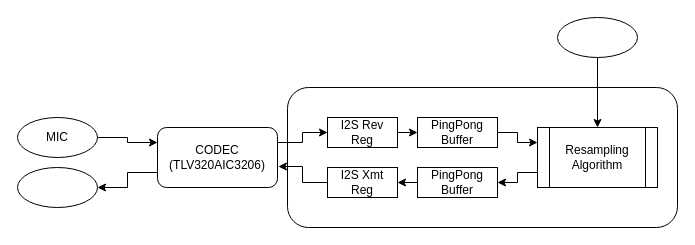
Some shapes in this 695 by 245 pixel diagram are drawn without their labels. Each missing label, with the box of its shape:
Buttons: (556, 16, 638, 58)
C5545: (286, 86, 678, 228)
Headphone: (16, 166, 98, 208)
